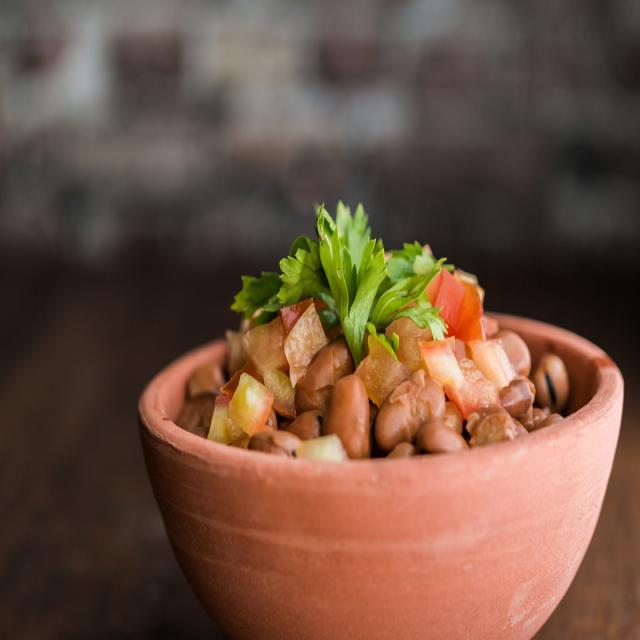fool: (181, 299, 573, 499)
